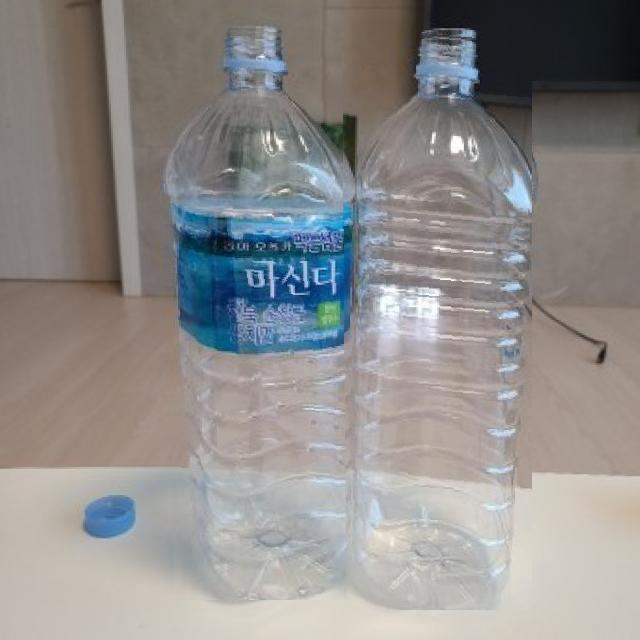plastic bottle: (162, 27, 360, 600), (342, 26, 532, 610)
